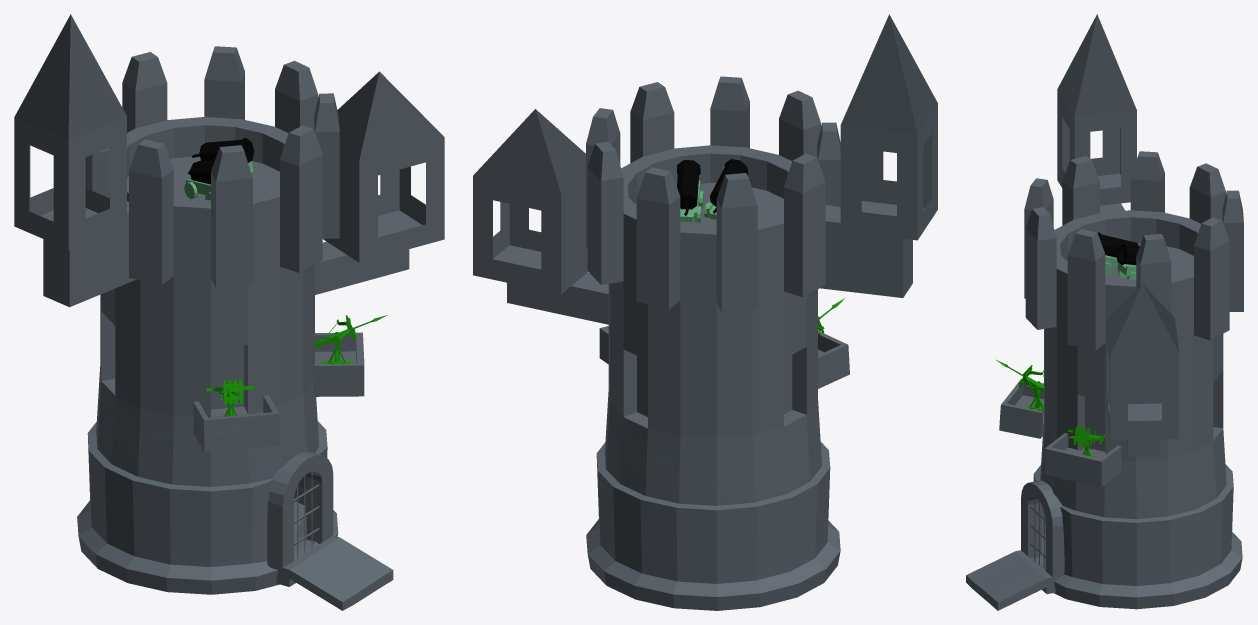
File: Tower_def_model.fbx
3 views of the same model, side by side, from view 1: azimuth 30°, elevation 25°; view 2: azimuth 150°, elevation 25°; view 3: azimuth 270°, elevation 25° (orthographic). The views are drawn at different scales.
Parts seen in each view (by area): view 1: ГЛАВНАЯ БАШНЯ, БАШНЯ ВЛЕВО, МИНИ БАШНЯ ВПРАВО, АРКА, БАЛКОНВЛЕВО, БАЛКОН ВПРАВО, АРБАЛЕТ ВПРАВО, АРБАЛЕТ ВЛЕВО, ПУШКА СМОТРИТ ВПРАВО, РЕШЕТКА-ВОРОТА; view 2: ГЛАВНАЯ БАШНЯ, БАШНЯ ВЛЕВО, МИНИ БАШНЯ ВПРАВО, БАЛКОНВЛЕВО, ПУШКА СМОТРИТ ВПРАВО; view 3: ГЛАВНАЯ БАШНЯ, МИНИ БАШНЯ ВПРАВО, БАШНЯ ВЛЕВО, АРКА, БАЛКОН ВПРАВО, БАЛКОНВЛЕВО, АРБАЛЕТ ВЛЕВО, АРБАЛЕТ ВПРАВО, РЕШЕТКА-ВОРОТА, ПУШКА СМОТРИТ ВЛЕВО\, ПУШКА СМОТРИТ ВПРАВО.
Boxes of the visible parts, x1,y1,x2,y2 form: ГЛАВНАЯ БАШНЯ: (77, 46, 339, 594); БАШНЯ ВЛЕВО: (14, 14, 136, 307); МИНИ БАШНЯ ВПРАВО: (315, 71, 444, 294); АРКА: (267, 452, 393, 610); БАЛКОНВЛЕВО: (193, 395, 279, 451); БАЛКОН ВПРАВО: (314, 332, 364, 396); АРБАЛЕТ ВПРАВО: (315, 315, 387, 363); АРБАЛЕТ ВЛЕВО: (206, 379, 256, 416); ПУШКА СМОТРИТ ВПРАВО: (192, 138, 254, 162); РЕШЕТКА-ВОРОТА: (294, 471, 319, 558); ГЛАВНАЯ БАШНЯ: (586, 76, 840, 610); БАШНЯ ВЛЕВО: (820, 14, 937, 297); МИНИ БАШНЯ ВПРАВО: (473, 109, 608, 324); БАЛКОНВЛЕВО: (818, 330, 849, 388); ПУШКА СМОТРИТ ВПРАВО: (677, 160, 700, 215); ГЛАВНАЯ БАШНЯ: (1024, 151, 1243, 609); МИНИ БАШНЯ ВПРАВО: (1106, 284, 1179, 456); БАШНЯ ВЛЕВО: (1057, 14, 1136, 212); АРКА: (966, 480, 1064, 610); БАЛКОН ВПРАВО: (1044, 433, 1121, 487); БАЛКОНВЛЕВО: (999, 379, 1043, 438); АРБАЛЕТ ВЛЕВО: (995, 359, 1043, 411); АРБАЛЕТ ВПРАВО: (1068, 426, 1105, 457); РЕШЕТКА-ВОРОТА: (1030, 497, 1045, 568); ПУШКА СМОТРИТ ВЛЕВО\: (1098, 232, 1138, 257); ПУШКА СМОТРИТ ВПРАВО: (1116, 243, 1139, 265).
Bounding box in the file's own units: 19.09 × 25.24 × 12.96.
